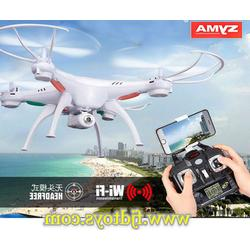drone: (1, 25, 224, 160)
